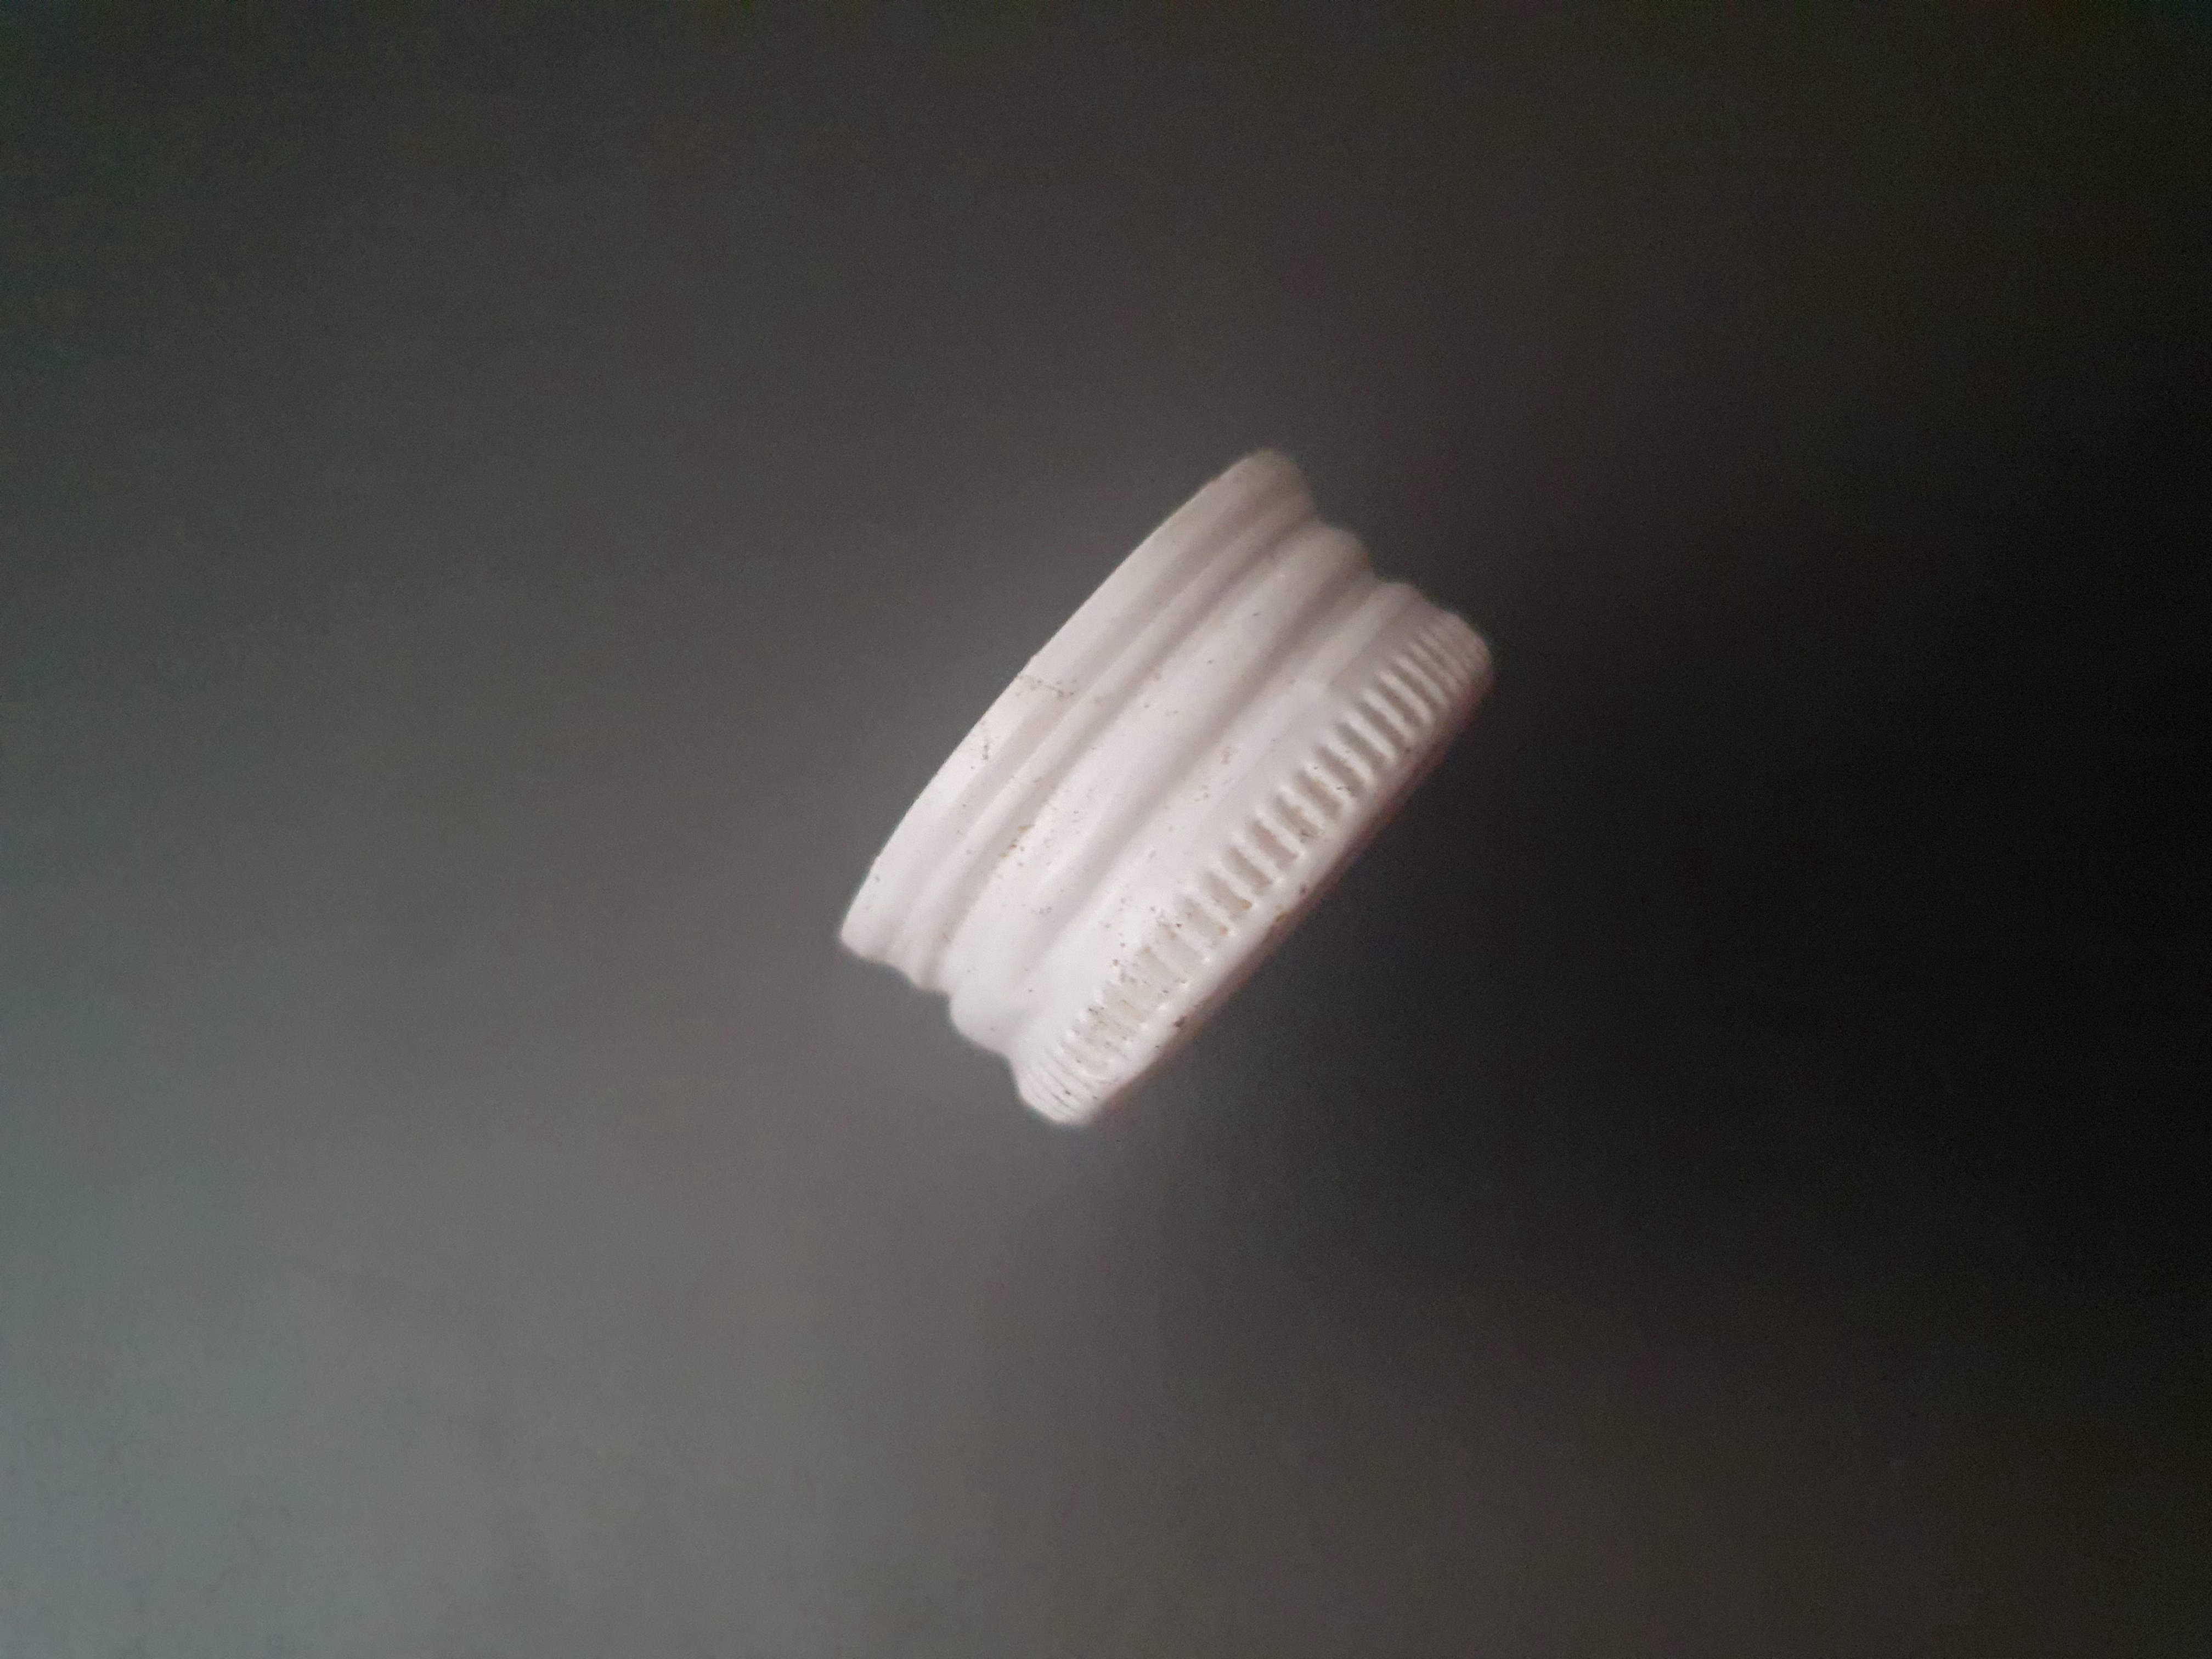metal: (798, 415, 1514, 1187)
